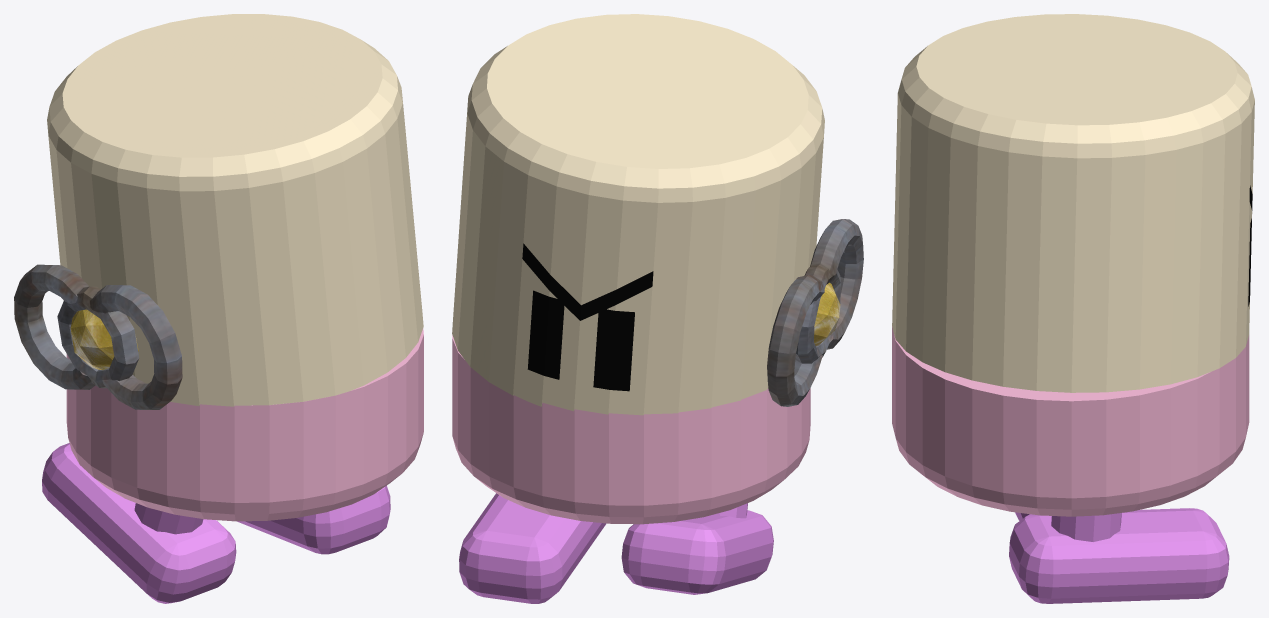
Rendered from Toasters080.obj.
3 views of the same model, side by side, from view 1: azimuth 30°, elevation 25°; view 2: azimuth 150°, elevation 25°; view 3: azimuth 270°, elevation 25° (orthographic).
Parts seen in each view (by area): view 1: Head, Jaw, WindupKey, LeftLeg, RightLeg; view 2: Head, Jaw, WindupKey, RightLeg, LeftLeg; view 3: Head, Jaw, RightLeg.
Part boxes in pixels (x1,y1,x2,y2): Head: [47, 14, 423, 406]; Jaw: [66, 328, 423, 521]; WindupKey: [14, 264, 182, 409]; LeftLeg: [42, 443, 236, 603]; RightLeg: [237, 485, 390, 554]; Head: [452, 14, 824, 415]; Jaw: [452, 335, 810, 524]; WindupKey: [767, 219, 863, 406]; RightLeg: [459, 493, 606, 603]; LeftLeg: [621, 503, 773, 594]; Head: [892, 14, 1254, 392]; Jaw: [892, 326, 1249, 516]; RightLeg: [1009, 508, 1229, 603].
Bounding box in the file's own units: 113 × 152 × 102.
6 materials, 2 textured.
